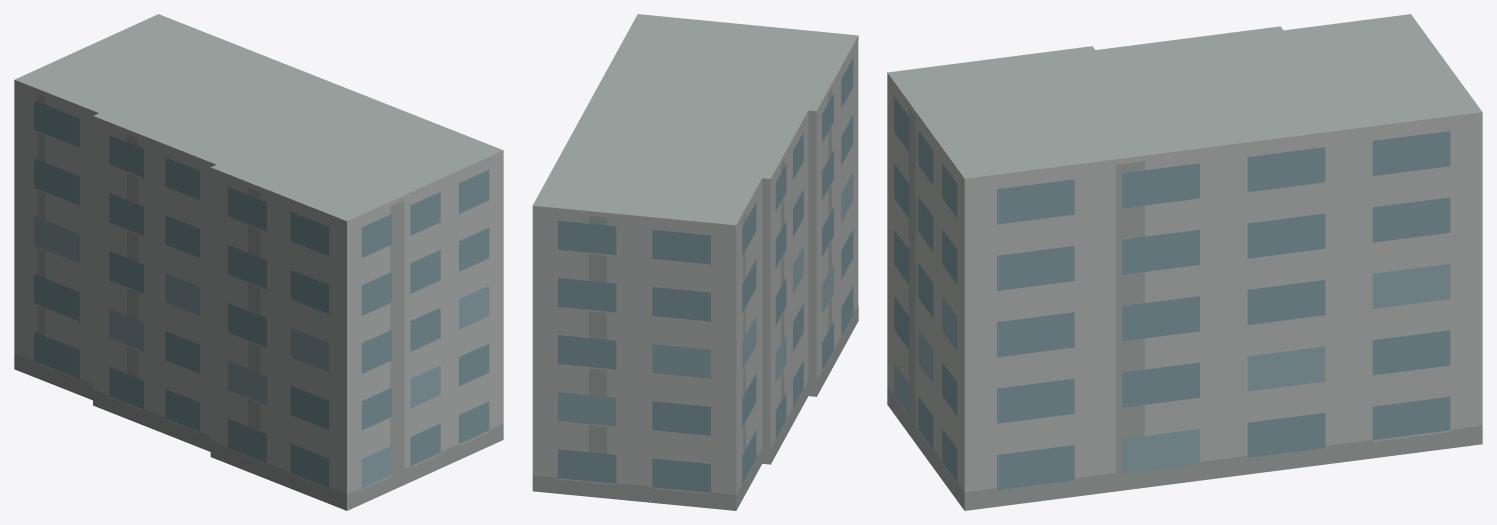
File: survey-upis-32759519.glb
The picture shows the model from 3 angles, left to right: view 1: azimuth 30°, elevation 25°; view 2: azimuth 150°, elevation 25°; view 3: azimuth 270°, elevation 25°; orthographic projection. The views are drawn at different scales.
Parts seen in each view (by area): view 1: survey-upis-32759519.tmp; view 2: survey-upis-32759519.tmp; view 3: survey-upis-32759519.tmp.
Part boxes in pixels (x1=…): survey-upis-32759519.tmp: x1=14, y1=14, x2=503, y2=510; survey-upis-32759519.tmp: x1=532, y1=14, x2=858, y2=510; survey-upis-32759519.tmp: x1=887, y1=14, x2=1482, y2=510.
Size of the model in its own units: 15.44 by 14.5 by 23.56.
